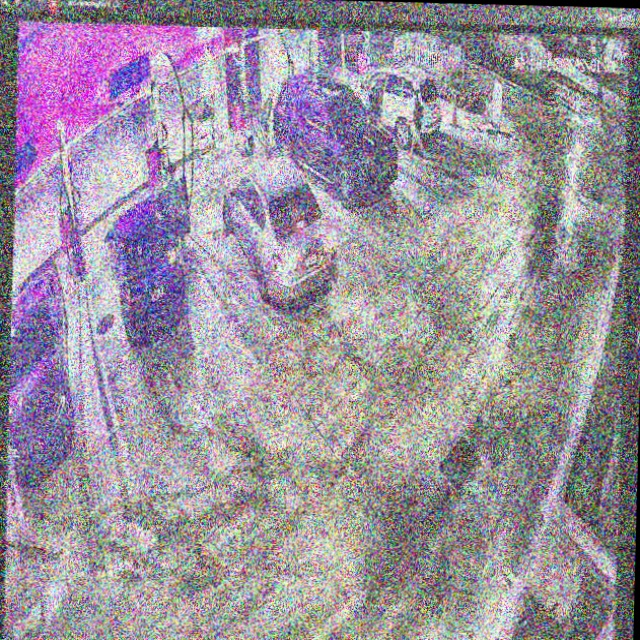Car: (220, 150, 338, 304), (271, 68, 401, 207), (104, 176, 185, 345), (341, 63, 443, 149)
